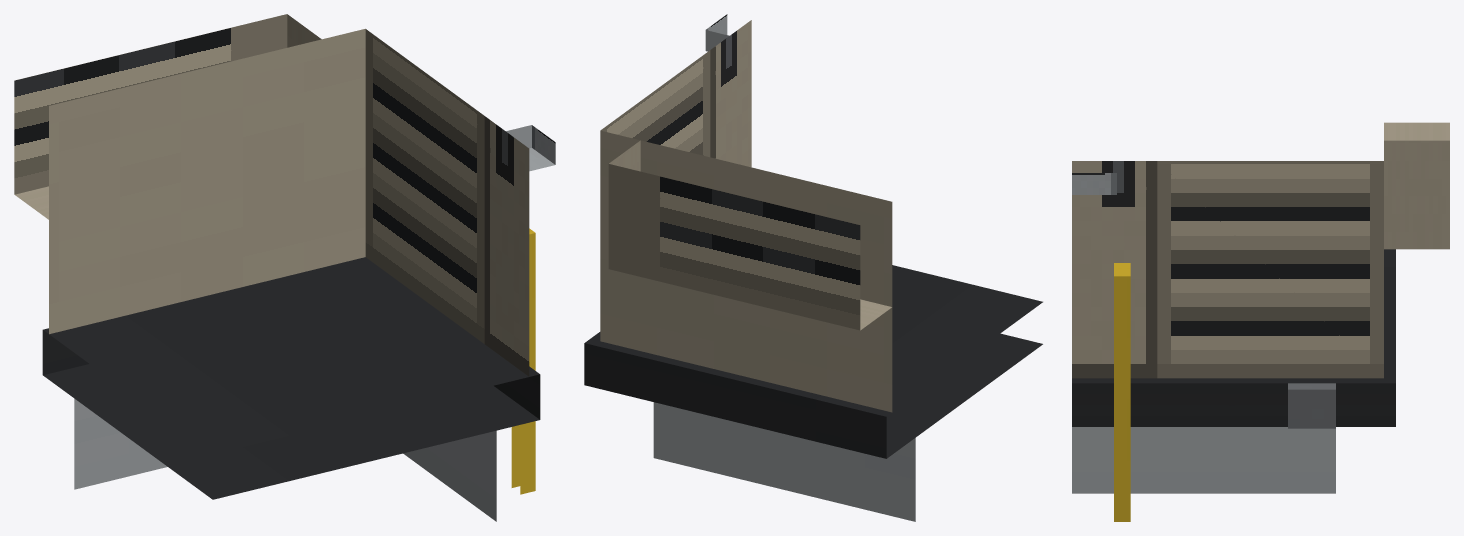
Rendered from rtu_large_x1_y0_z0.obj.
The picture shows the model from 3 angles, left to right: view 1: azimuth 30°, elevation 25°; view 2: azimuth 150°, elevation 25°; view 3: azimuth 270°, elevation 25°; orthographic projection. The views are drawn at different scales.
Visible parts, largest first — view 1: unit; view 2: unit; view 3: unit.
Part boxes in pixels (x1,y1,x2,y2): unit: (14,14,555,521); unit: (584,14,1042,521); unit: (1072,122,1449,521).
Size of the model in its own units: 0.9875 by 1 by 0.9844.
